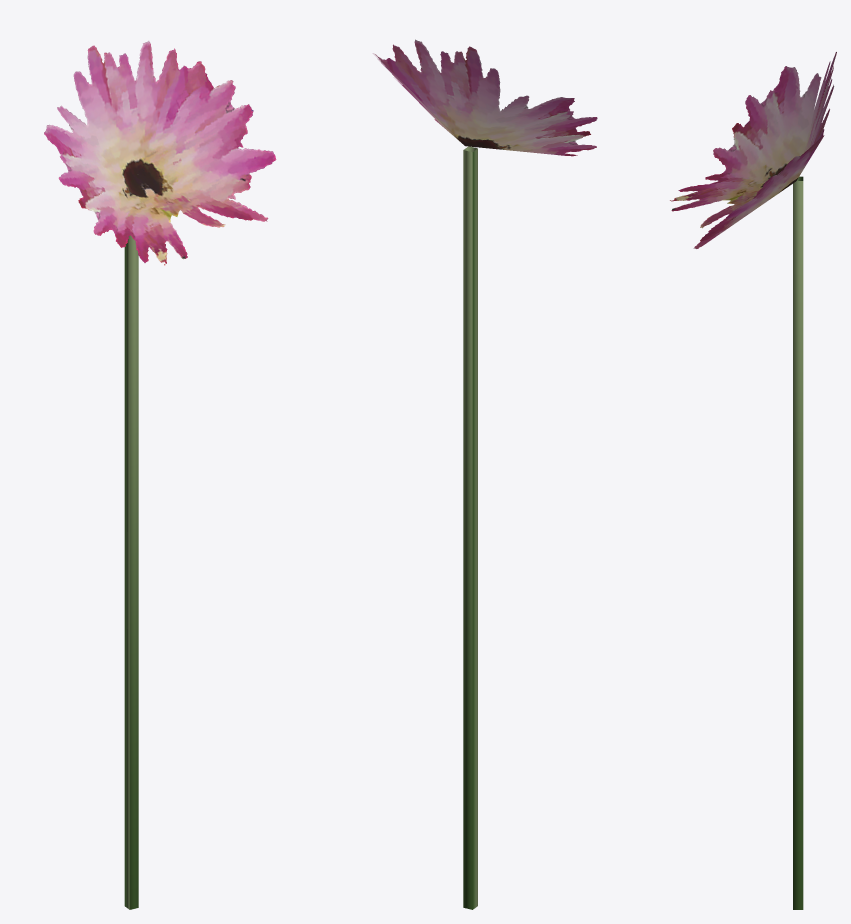
File: FlowerViolet.fbx
3 renders of one model, left to right at view 1: azimuth 30°, elevation 25°; view 2: azimuth 150°, elevation 25°; view 3: azimuth 270°, elevation 25°, orthographic. The views are drawn at different scales.
Parts seen in each view (by area): view 1: FlowerViolet; view 2: FlowerViolet; view 3: FlowerViolet.
Part boxes in pixels (left/top/right/bottom): FlowerViolet: left=44, top=40, right=276, bottom=909; FlowerViolet: left=373, top=39, right=597, bottom=909; FlowerViolet: left=670, top=52, right=836, bottom=909.
Size of the model in its own units: 1.33 by 5.19 by 0.9379.
